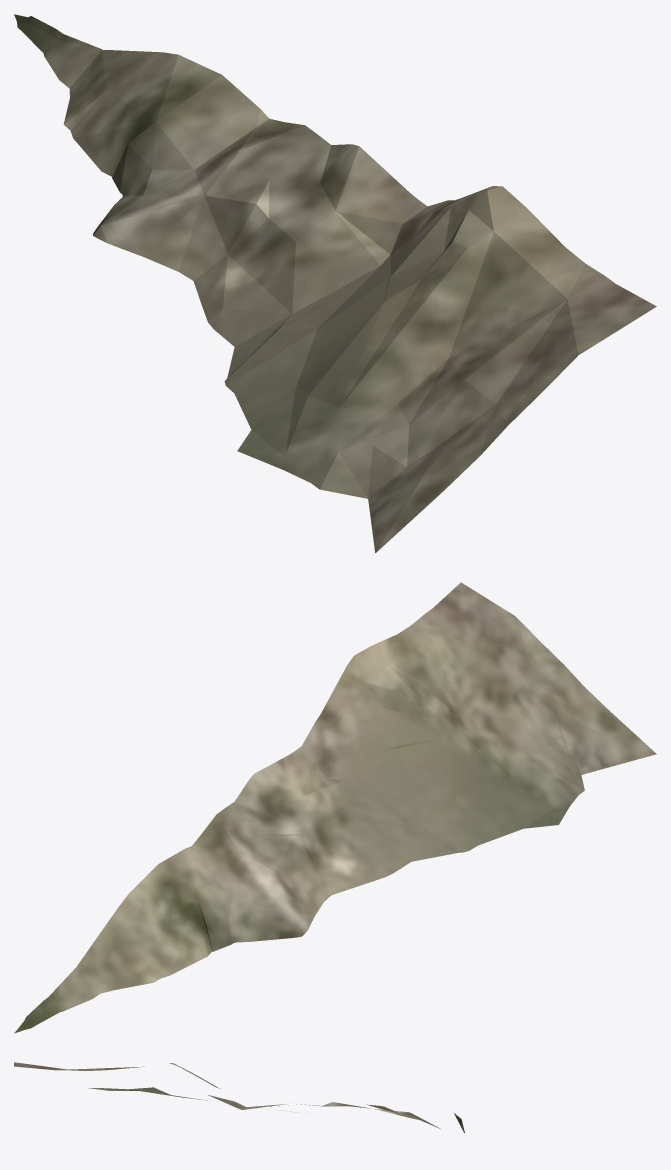
3 renders of one model, top to bottom at view 1: azimuth 30°, elevation 25°; view 2: azimuth 150°, elevation 25°; view 3: azimuth 270°, elevation 25°, orthographic. The views are drawn at different scales.
Size of the model in its own units: 1.4 by 0.8811 by 5.53.
1 material, 1 textured.
